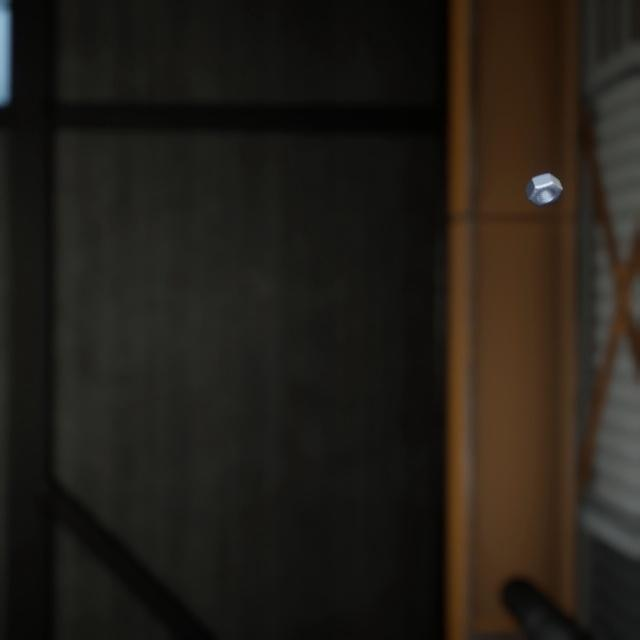nut: (520, 154, 567, 196)
